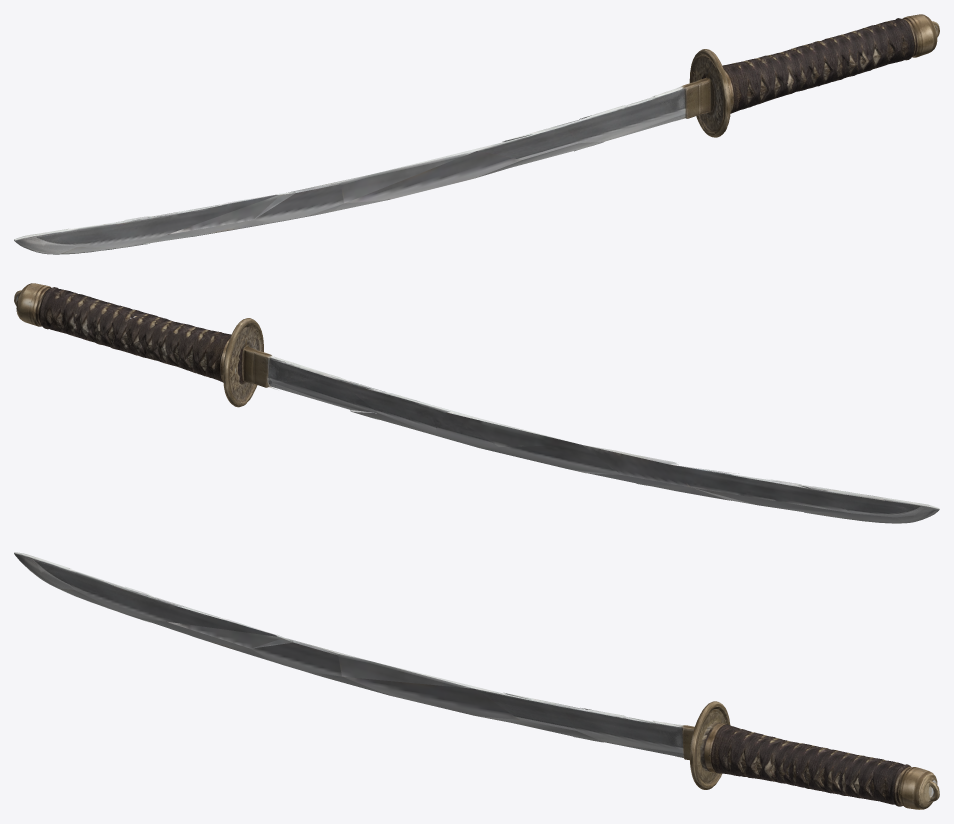
Rendered from weapon_hwando.glb.
The picture shows the model from 3 angles, top to bottom: view 1: azimuth 30°, elevation 25°; view 2: azimuth 150°, elevation 25°; view 3: azimuth 330°, elevation 25°; orthographic projection.
Parts seen in each view (by area): view 1: Mesh_0; view 2: Mesh_0; view 3: Mesh_0.
Boxes of the visible parts, box(x1,y1,x2,y2) form: Mesh_0: box(14, 14, 939, 254); Mesh_0: box(14, 283, 939, 523); Mesh_0: box(14, 552, 939, 809).
Size of the model in its own units: 1.9 by 0.1668 by 0.1336.
1 material, 1 textured.
